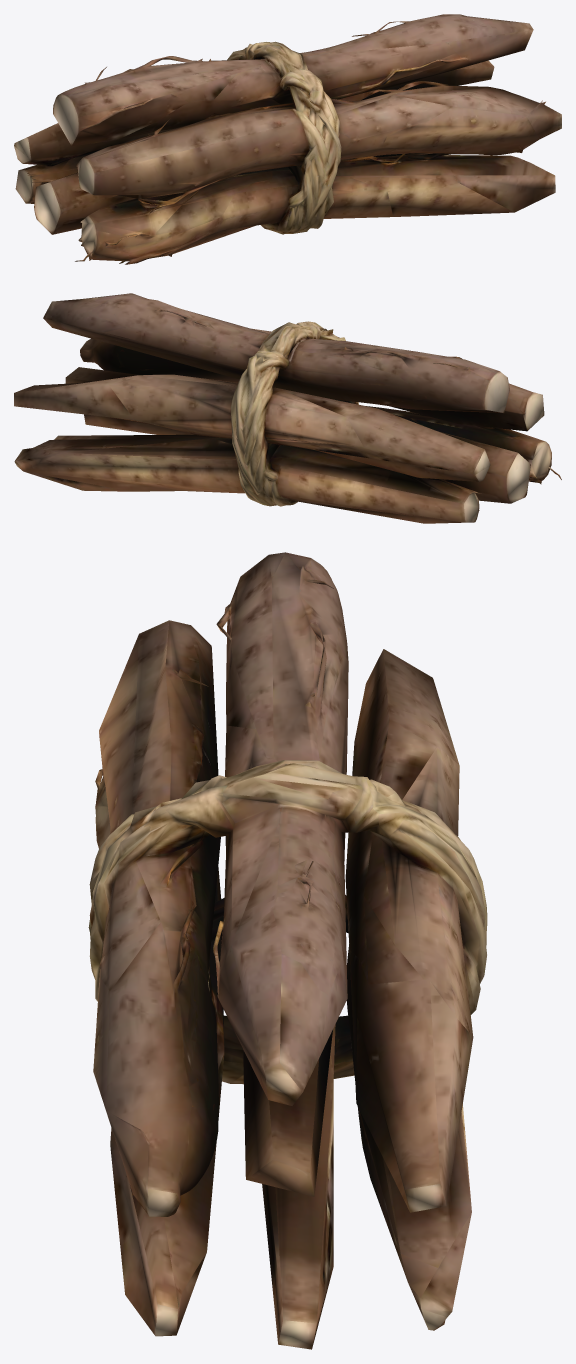
File: yam.glb
3 views of the same model, one above another, from view 1: azimuth 30°, elevation 25°; view 2: azimuth 150°, elevation 25°; view 3: azimuth 270°, elevation 25° (orthographic). The views are drawn at different scales.
Parts seen in each view (by area): view 1: node_0; view 2: node_0; view 3: node_0.
Part boxes in pixels (x1=…): node_0: x1=14, y1=14, x2=561, y2=264; node_0: x1=14, y1=293, x2=561, y2=523; node_0: x1=88, y1=552, x2=487, y2=1349.
Bounding box in the file's own units: 1.14 × 0.4405 × 0.4128.
1 material, 1 textured.
